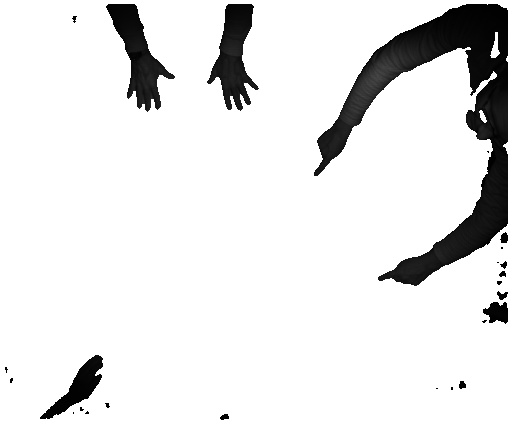hand: (203, 58, 263, 111), (120, 59, 175, 111), (69, 352, 111, 403), (376, 254, 427, 287), (312, 128, 347, 175)
